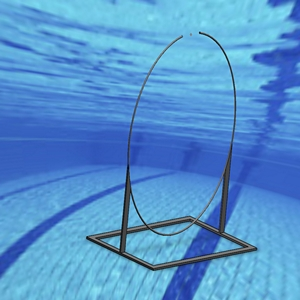circle: (84, 30, 258, 270)
